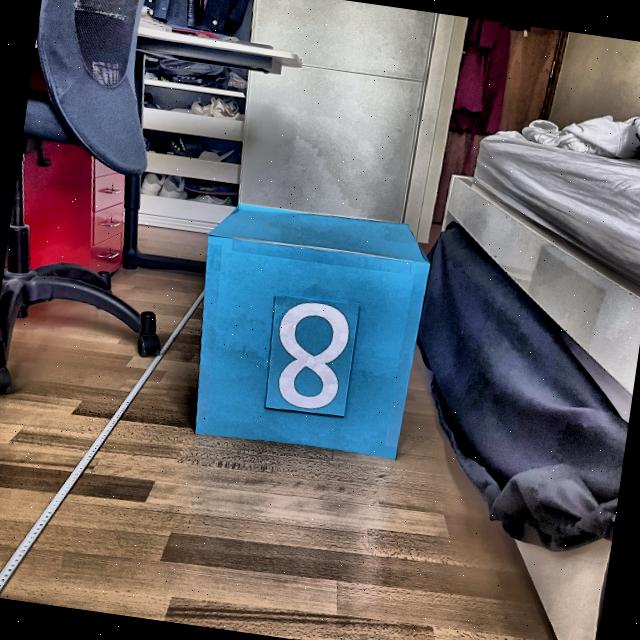blue box: (176, 192, 438, 467)
eight: (266, 296, 359, 416)
